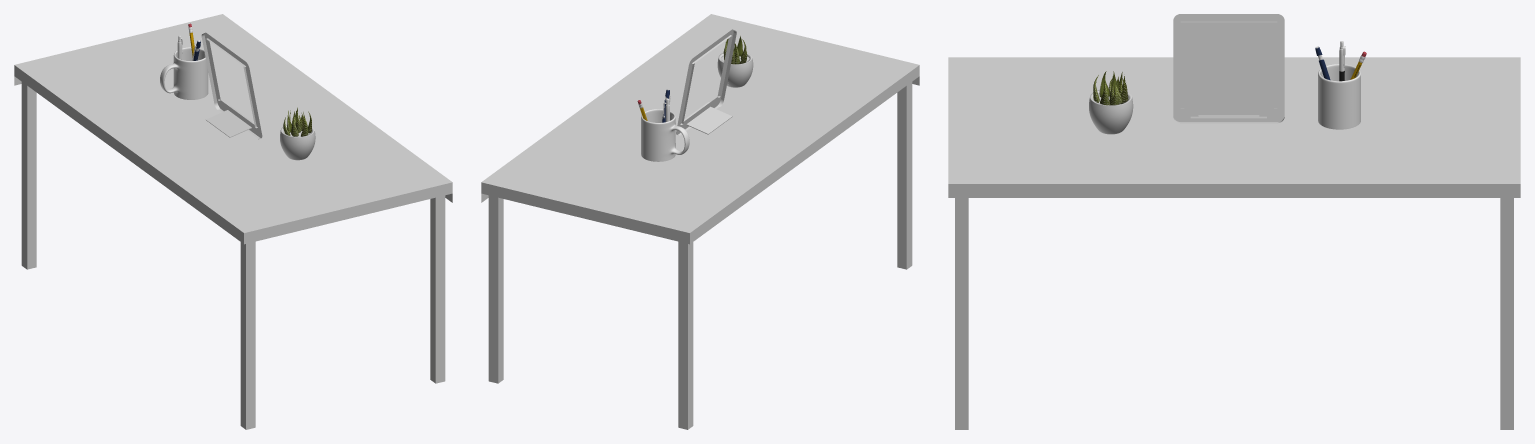
The model's file is WoodenCalender.glb.
3 renders of one model, left to right at view 1: azimuth 30°, elevation 25°; view 2: azimuth 150°, elevation 25°; view 3: azimuth 270°, elevation 25°, orthographic. The views are drawn at different scales.
Parts seen in each view (by area): view 1: Table.001, Object_4.001, Cube, Cylinder.006_Flowerpot5_0.001, Cube.001, Plane.081_Haworthia_leaf_0.001; view 2: Table.001, Object_4.001, Cube, Cube.001, Cylinder.006_Flowerpot5_0.001; view 3: Table.001, Plane, Cube, Object_4.001, Cylinder.006_Flowerpot5_0.001, Plane.081_Haworthia_leaf_0.001.
Part boxes in pixels (x1,y1,x2,y2): Table.001: [14, 14, 452, 429]; Object_4.001: [160, 51, 208, 99]; Cube: [201, 32, 262, 139]; Cylinder.006_Flowerpot5_0.001: [280, 124, 315, 160]; Cube.001: [206, 105, 254, 137]; Plane.081_Haworthia_leaf_0.001: [283, 107, 311, 136]; Table.001: [481, 14, 919, 429]; Object_4.001: [641, 109, 689, 161]; Cube: [676, 29, 736, 135]; Cube.001: [683, 102, 732, 134]; Cylinder.006_Flowerpot5_0.001: [717, 52, 753, 87]; Table.001: [948, 57, 1520, 429]; Plane: [1184, 22, 1273, 108]; Cube: [1173, 14, 1284, 123]; Object_4.001: [1318, 64, 1360, 129]; Cylinder.006_Flowerpot5_0.001: [1089, 88, 1133, 134]; Plane.081_Haworthia_leaf_0.001: [1093, 71, 1128, 105].
Bounding box in the file's own units: 1.1 × 1.41 × 2.1.
12 materials, 2 textured.
